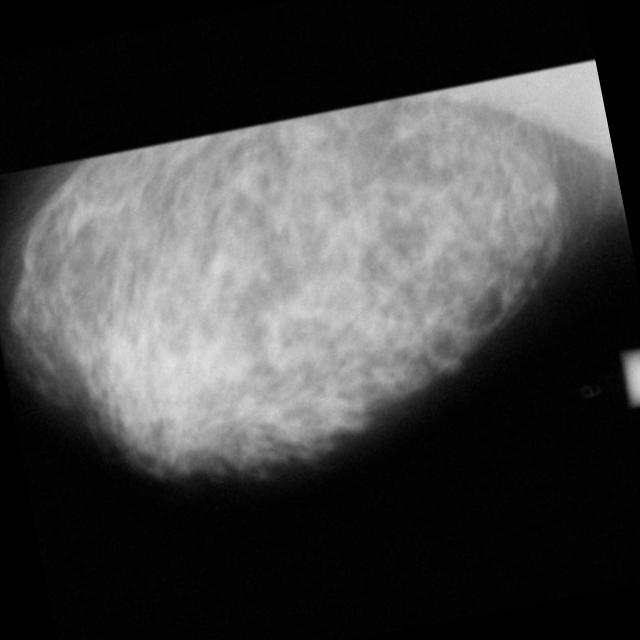ARCH: (288, 116, 329, 156)
